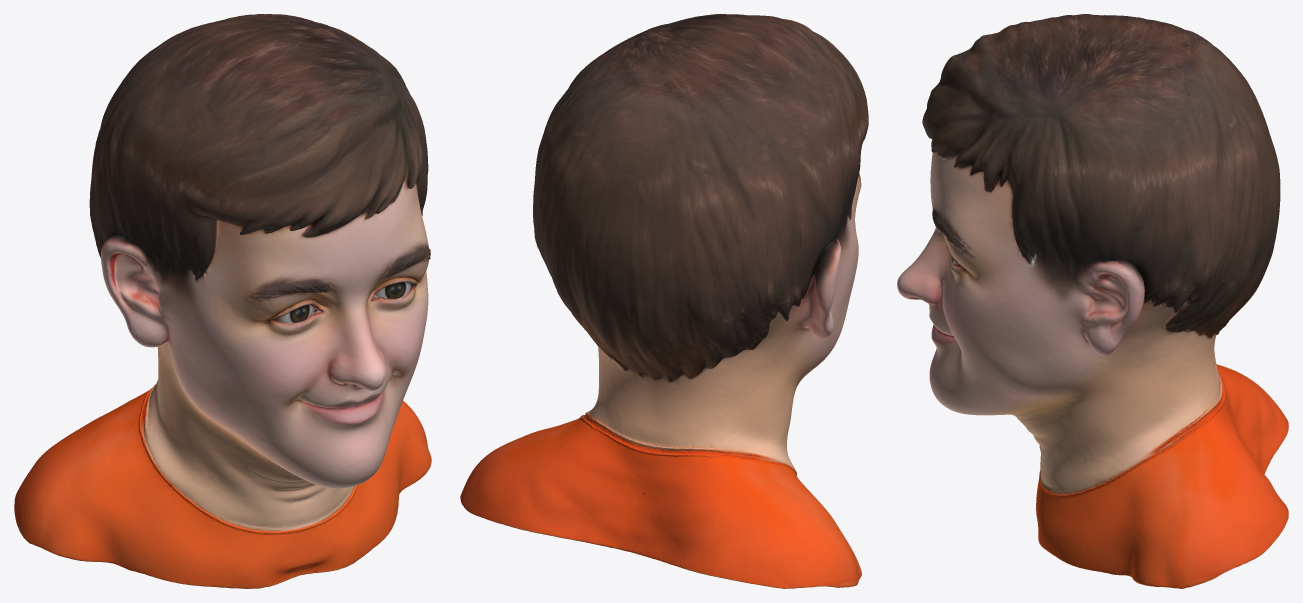
The model's file is Meshy_AI_Smiling_Avatar_in_Ora_1222200416_texture.fbx.
3 renders of one model, left to right at view 1: azimuth 30°, elevation 25°; view 2: azimuth 150°, elevation 25°; view 3: azimuth 270°, elevation 25°, orthographic. The views are drawn at different scales.
Parts seen in each view (by area): view 1: Mesh_0; view 2: Mesh_0; view 3: Mesh_0.
Boxes of the visible parts, <box> form: Mesh_0: <box>14,14,431,588</box>; Mesh_0: <box>460,14,868,588</box>; Mesh_0: <box>897,14,1288,588</box>.
Size of the model in its own units: 153 by 190 by 137.
1 material, 1 textured.
